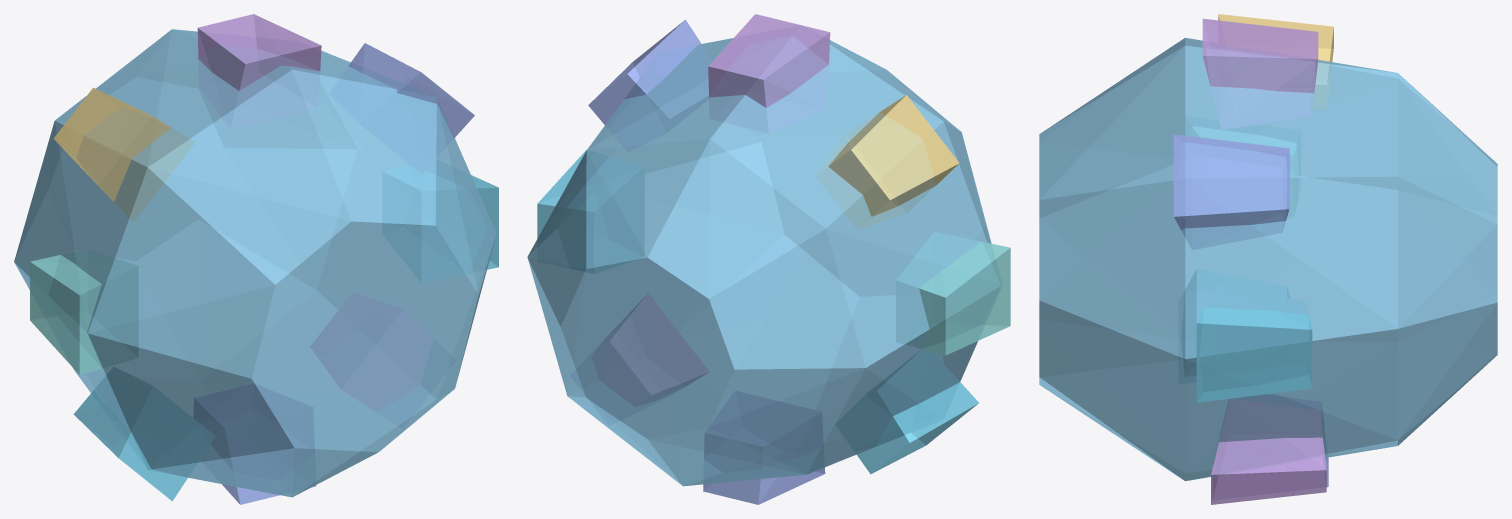
Rendered from PUBLIA_prisma_suave_v2.glb.
3 renders of one model, left to right at view 1: azimuth 30°, elevation 25°; view 2: azimuth 150°, elevation 25°; view 3: azimuth 270°, elevation 25°, orthographic.
Visible parts, largest first — view 1: Prism_Core, Facet_04, Facet_02, Facet_00, Facet_03, Facet_01, Facet_05, Facet_07, Facet_06; view 2: Prism_Core, Facet_04, Facet_02, Facet_03, Facet_05, Facet_06, Facet_01, Facet_00, Facet_07; view 3: Prism_Core, Facet_00, Facet_01, Facet_02, Facet_07, Facet_05, Facet_03, Facet_04, Facet_06.
Part boxes in pixels (box(x1,y1,x2,y2)): Prism_Core: box(14, 29, 496, 497); Facet_04: box(30, 249, 138, 374); Facet_02: box(197, 14, 321, 129); Facet_00: box(382, 165, 498, 282); Facet_03: box(53, 87, 194, 222); Facet_01: box(329, 43, 474, 173); Facet_05: box(73, 367, 214, 501); Facet_07: box(310, 292, 433, 411); Facet_06: box(193, 384, 316, 504); Prism_Core: box(527, 25, 1000, 486); Facet_04: box(896, 232, 1010, 355); Facet_02: box(708, 14, 830, 132); Facet_03: box(816, 95, 959, 229); Facet_05: box(835, 349, 978, 474); Facet_06: box(703, 391, 825, 504); Facet_01: box(588, 19, 712, 151); Facet_00: box(537, 149, 644, 273); Facet_07: box(592, 293, 708, 406); Prism_Core: box(1039, 37, 1497, 481); Facet_00: box(1196, 284, 1312, 402); Facet_01: box(1173, 134, 1289, 249); Facet_02: box(1202, 18, 1318, 129); Facet_07: box(1211, 399, 1326, 504); Facet_05: box(1181, 269, 1289, 376); Facet_03: box(1218, 14, 1333, 109); Facet_04: box(1191, 126, 1298, 218); Facet_06: box(1221, 394, 1328, 487).
Size of the model in its own units: 2.12 by 2.12 by 1.98.
